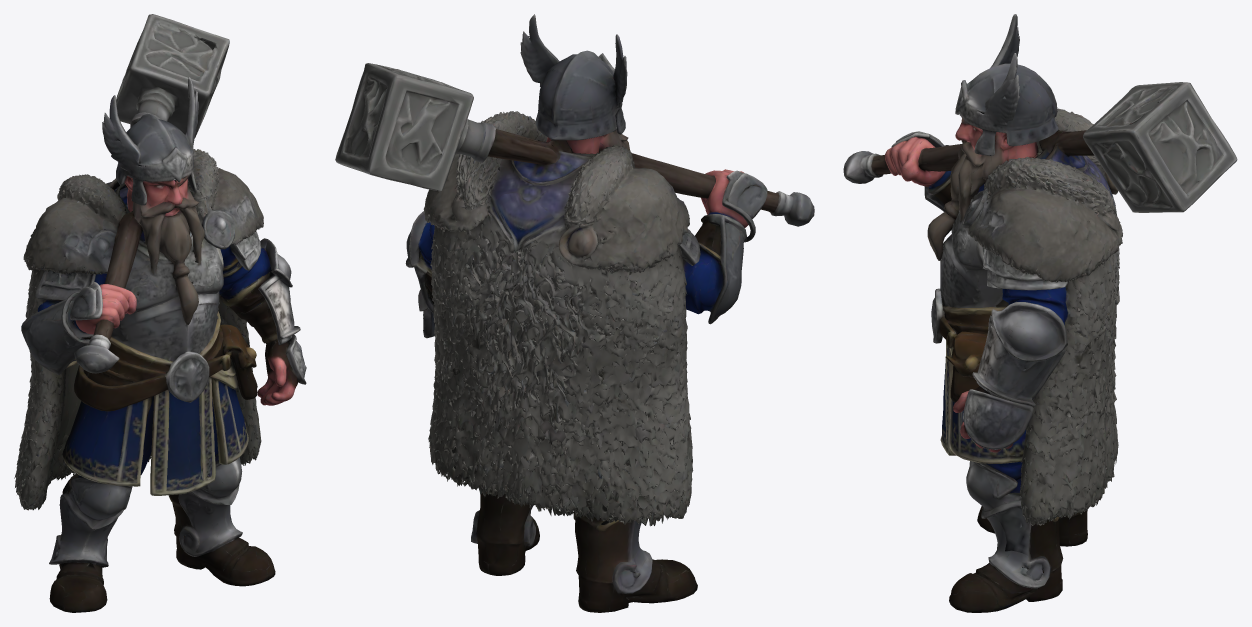
File: detail_12.glb
The picture shows the model from 3 angles, left to right: view 1: azimuth 30°, elevation 25°; view 2: azimuth 150°, elevation 25°; view 3: azimuth 270°, elevation 25°; orthographic projection. The views are drawn at different scales.
Bounding box in the file's own units: 0.6023 × 0.9996 × 0.6733.
Materials: 1 (1 with a texture image).
